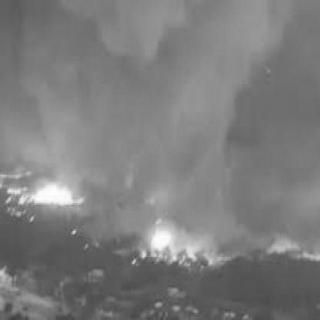Smoke: (182, 181, 258, 231)
